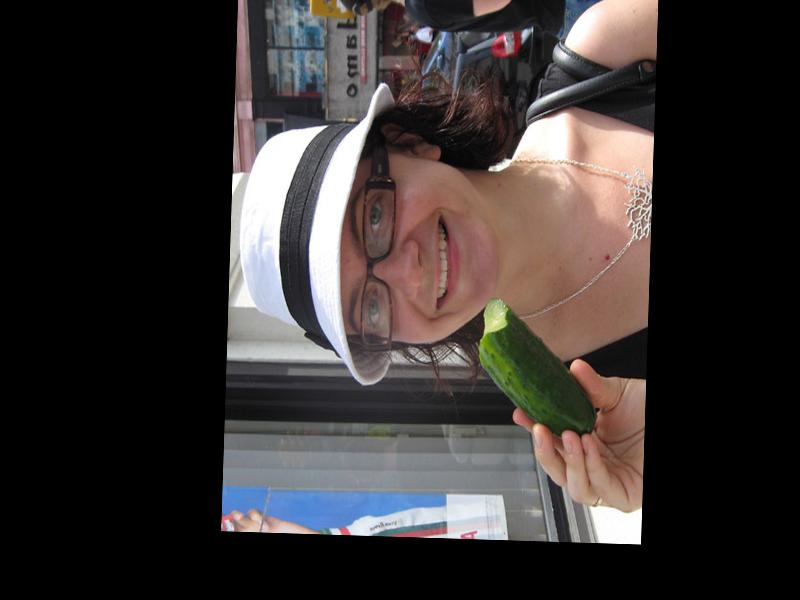Cucumber: (476, 299, 600, 440)
